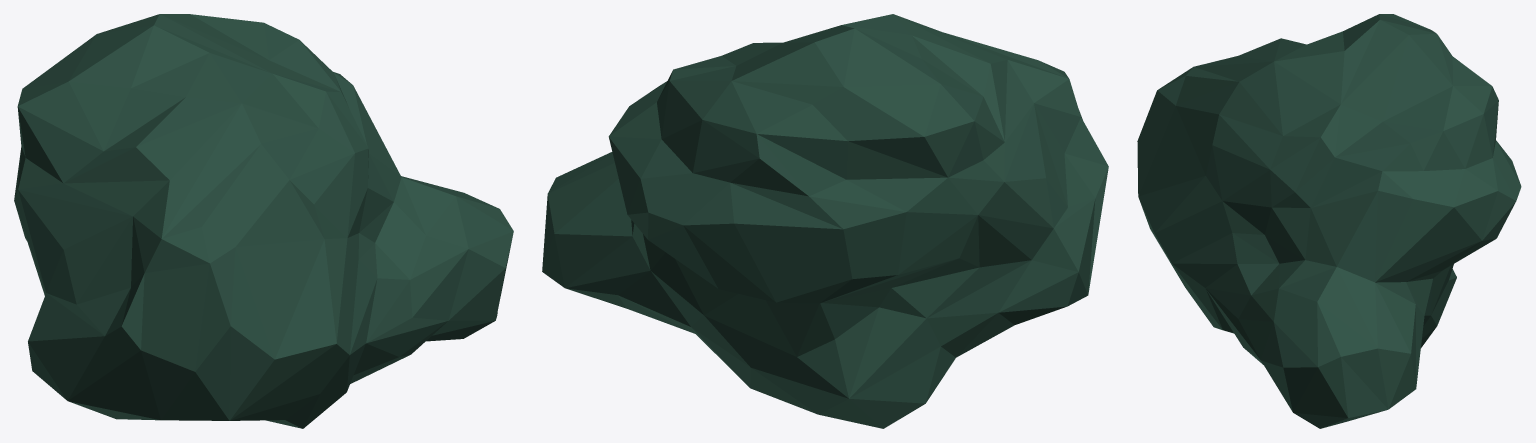
The model's file is SM_large_rock_27.fbx.
The picture shows the model from 3 angles, left to right: view 1: azimuth 30°, elevation 25°; view 2: azimuth 150°, elevation 25°; view 3: azimuth 270°, elevation 25°; orthographic projection. The views are drawn at different scales.
Visible parts, largest first — view 1: large_rock_27; view 2: large_rock_27; view 3: large_rock_27.
Part boxes in pixels (left/top/right/bottom): large_rock_27: left=14, top=14, right=513, bottom=428; large_rock_27: left=542, top=14, right=1108, bottom=428; large_rock_27: left=1137, top=14, right=1521, bottom=428.
Size of the model in its own units: 70.24 by 49.55 by 55.43.
